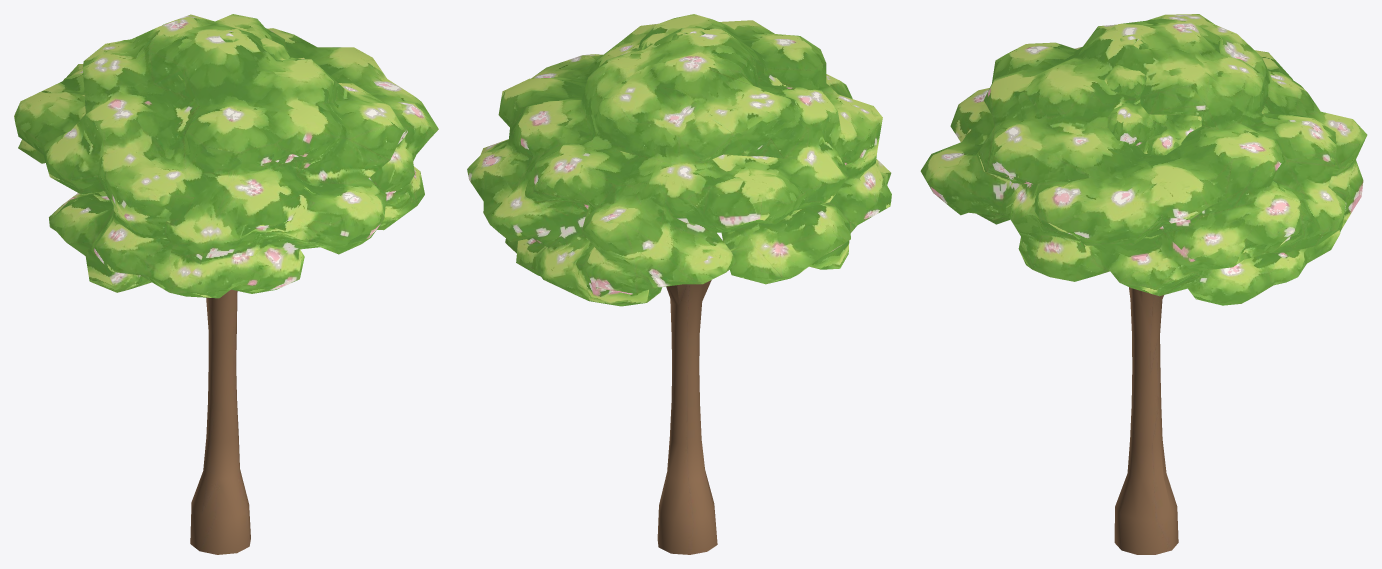
Rendered from tree_round_b.glb.
The picture shows the model from 3 angles, left to right: view 1: azimuth 30°, elevation 25°; view 2: azimuth 150°, elevation 25°; view 3: azimuth 270°, elevation 25°; orthographic projection.
Visible parts, largest first — view 1: body; view 2: body; view 3: body.
Boxes of the visible parts, x1,y1,x2,y2 form: body: (14,14,438,554); body: (467,14,891,554); body: (920,14,1367,554).
Bounding box in the file's own units: 3.07 × 4.38 × 3.5.
2 materials, 2 textured.
